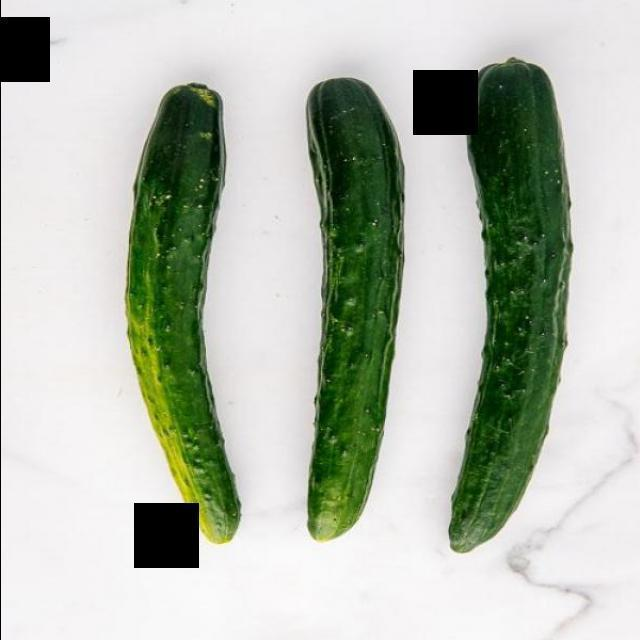cucumber: (446, 54, 577, 558), (119, 79, 246, 546), (298, 75, 410, 545)
